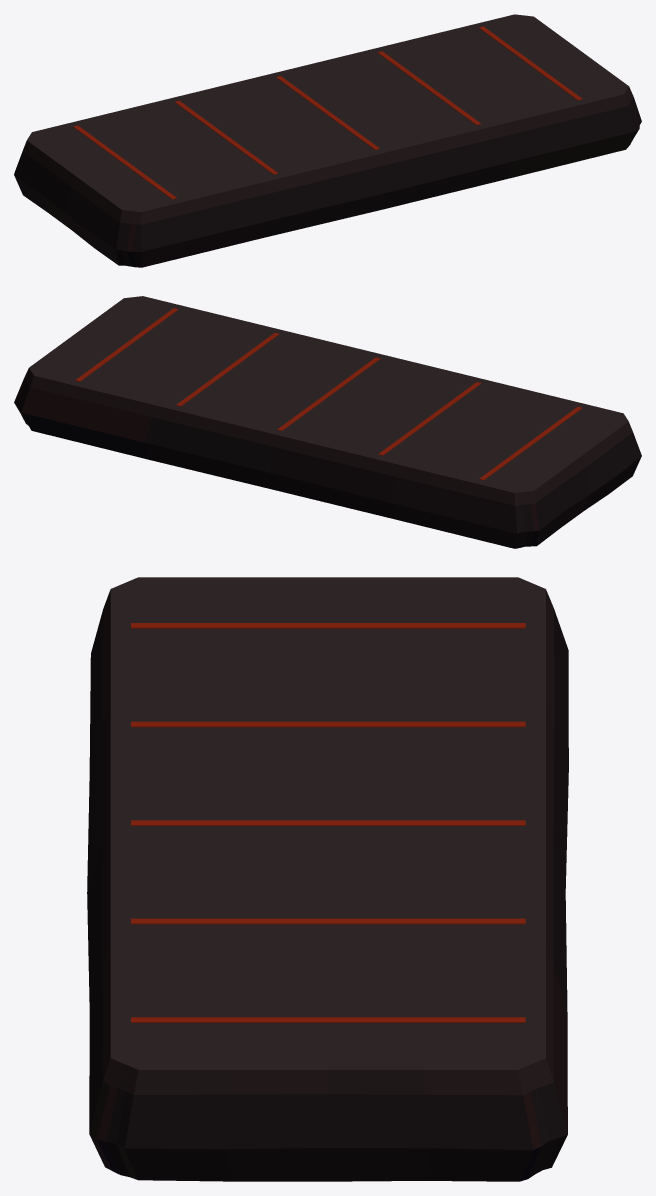
File: fortress_ramp.obj
3 views of the same model, one above another, from view 1: azimuth 30°, elevation 25°; view 2: azimuth 150°, elevation 25°; view 3: azimuth 270°, elevation 25° (orthographic). The views are drawn at different scales.
Parts seen in each view (by area): view 1: fortress_ramp; view 2: fortress_ramp; view 3: fortress_ramp.
Part boxes in pixels (<box>): fortress_ramp: <box>14,14,641,267</box>; fortress_ramp: <box>14,296,641,548</box>; fortress_ramp: <box>87,577,568,1181</box>.
Size of the model in its own units: 31.33 by 3.43 by 12.39.
